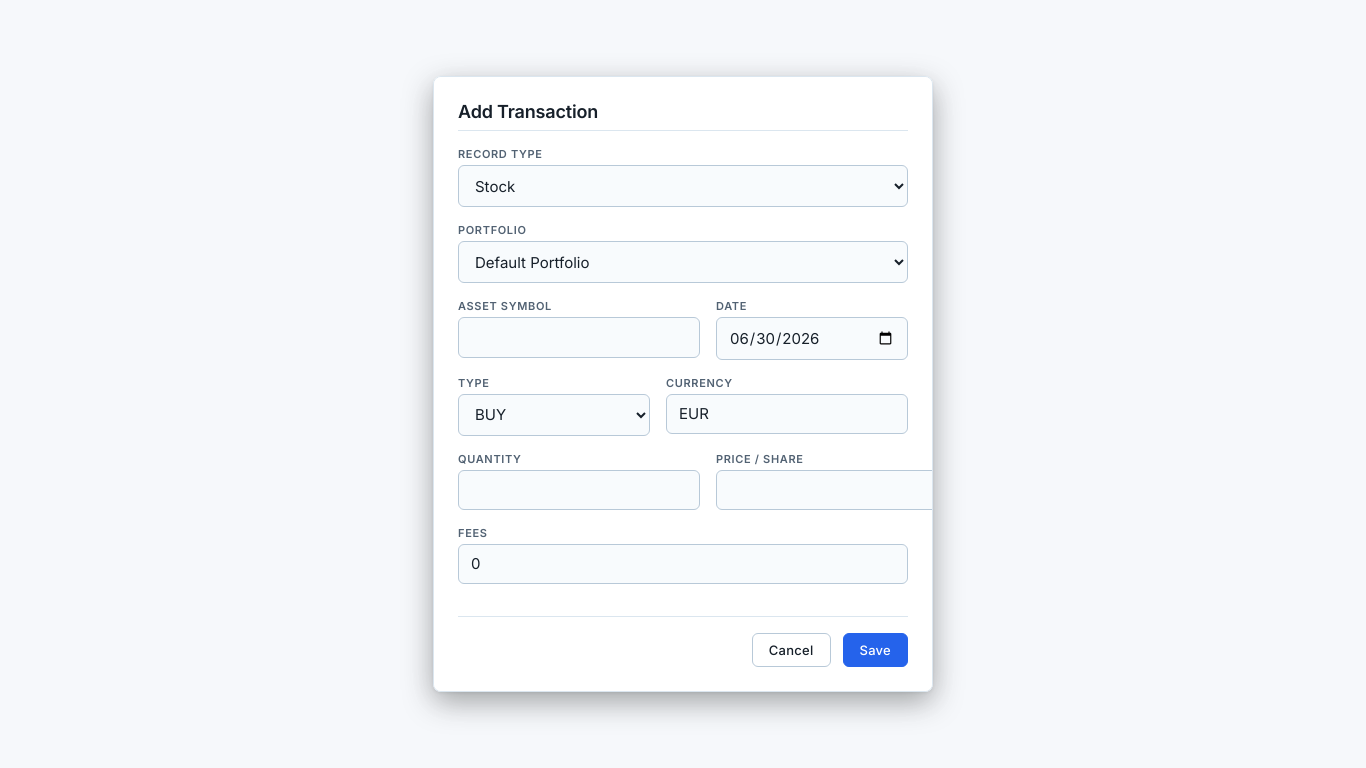
Test case: TransactionModal CASH behavior › shows insufficient cash shortfall from CashApiError
The width and height of the screenshot is (1366, 768).
Select "Cash" in the dropdown named "record type" at [683, 186], box [458,165,908,207]
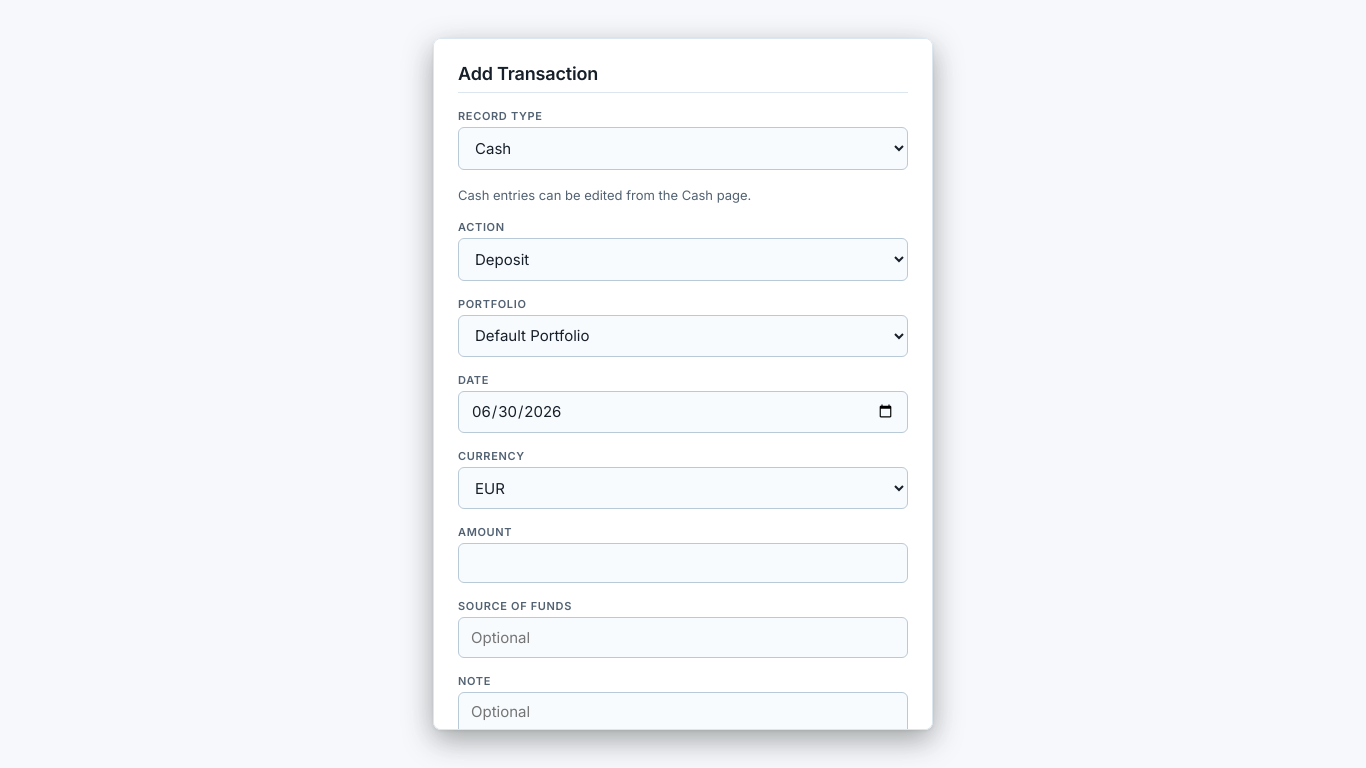
Select "Withdrawal" in the dropdown named "cash action" at [683, 260], box [458,238,908,281]
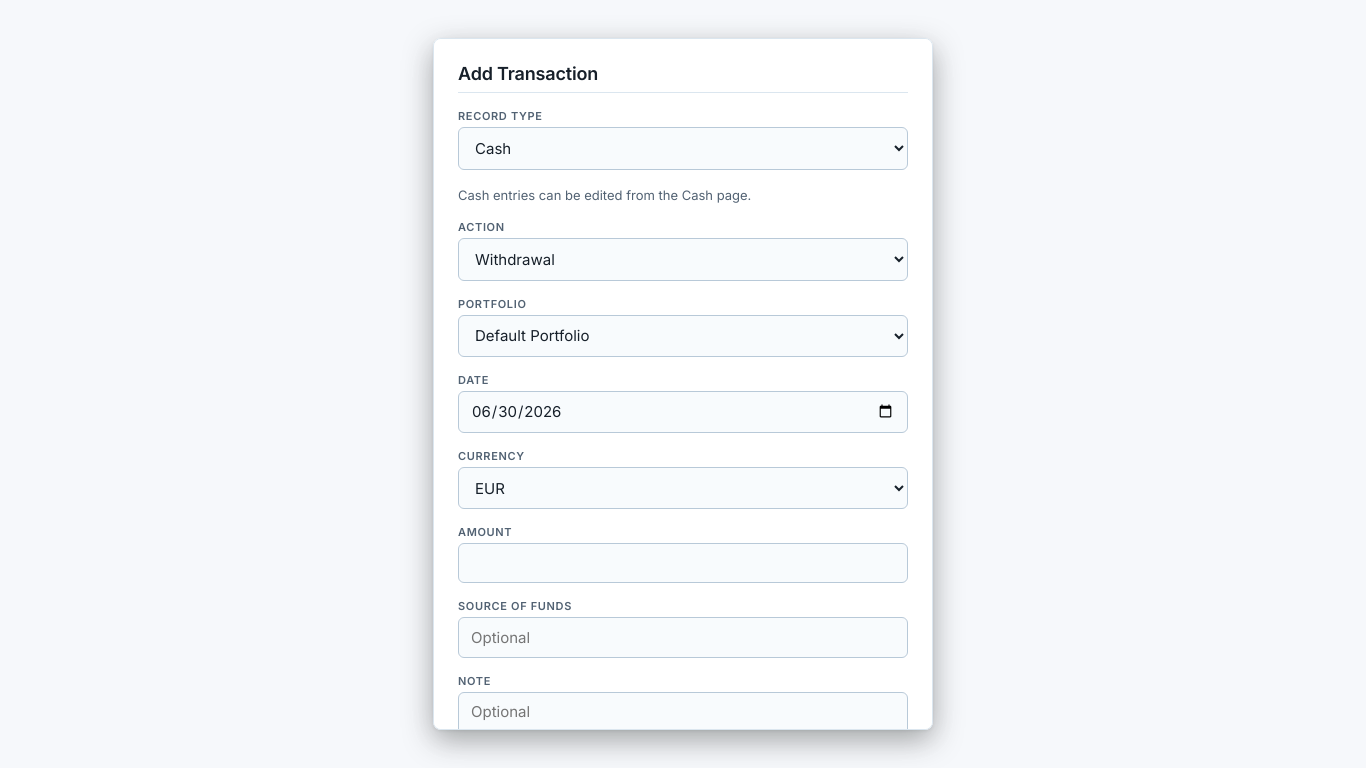
Type "500" into the number field with id "txn-modal-cash-amount".
click(683, 563); type("500")  # box [458,543,908,583]
(page scrolled)
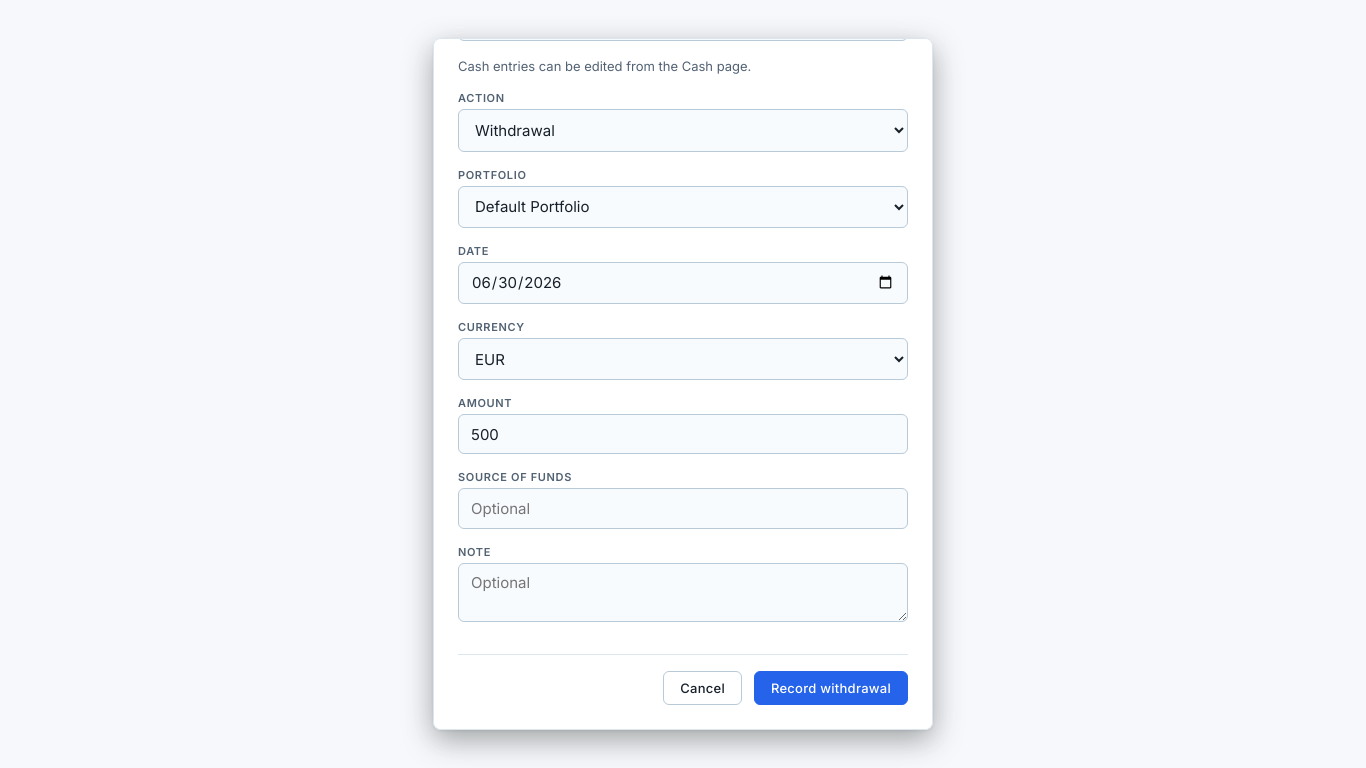
Click the button "Record withdrawal".
click(831, 688)  # box [754,671,908,705]
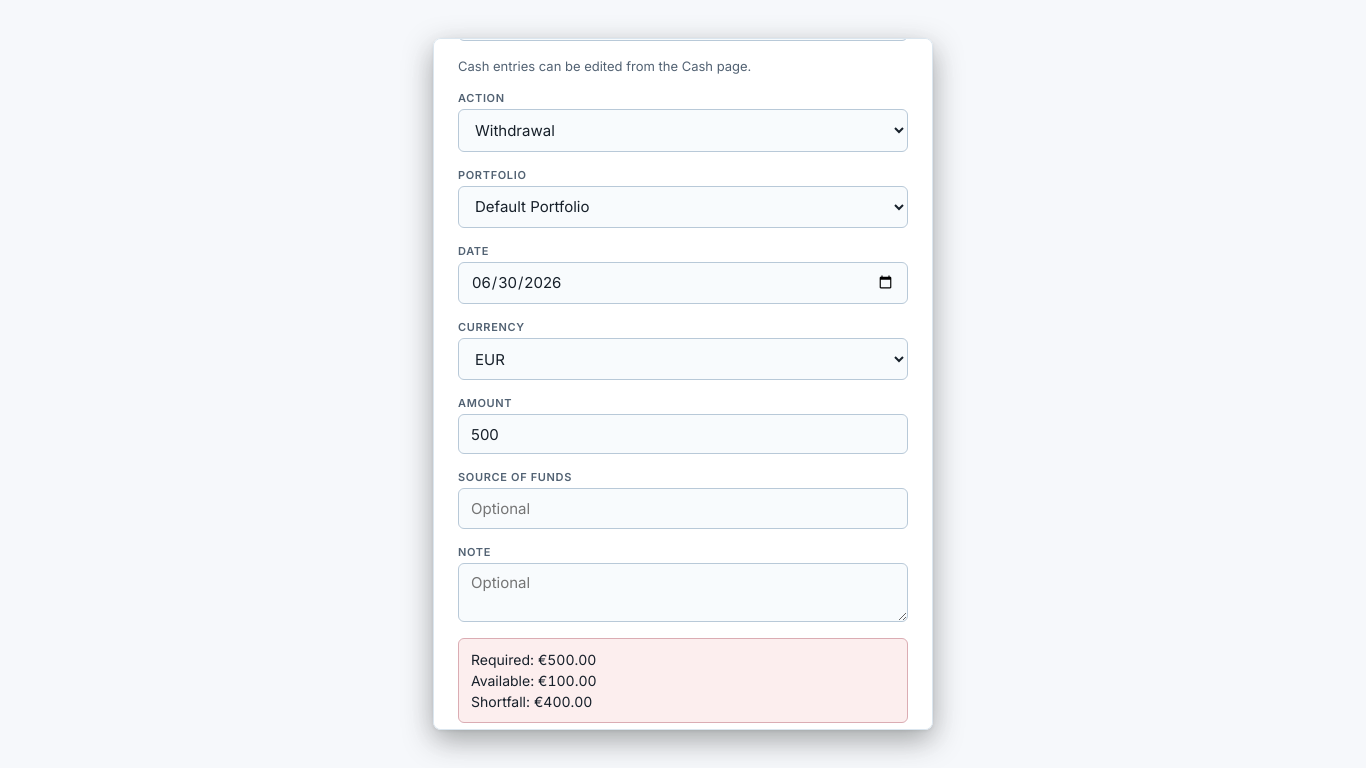
Expected: the text "Shortfall: €400.00" is shown, [471,693,592,710]
